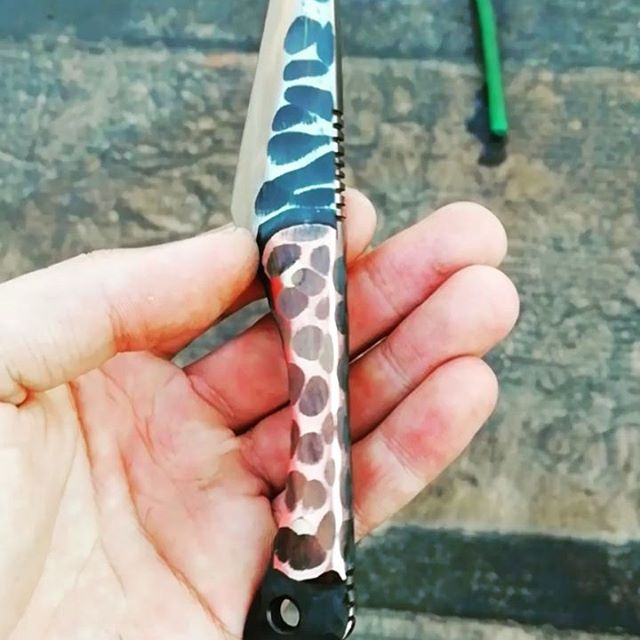knife: (231, 1, 357, 639)
